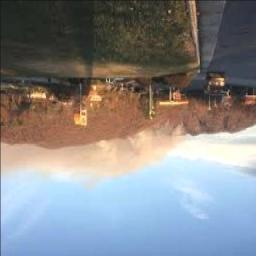Heavy smoke: (3, 131, 166, 175)
